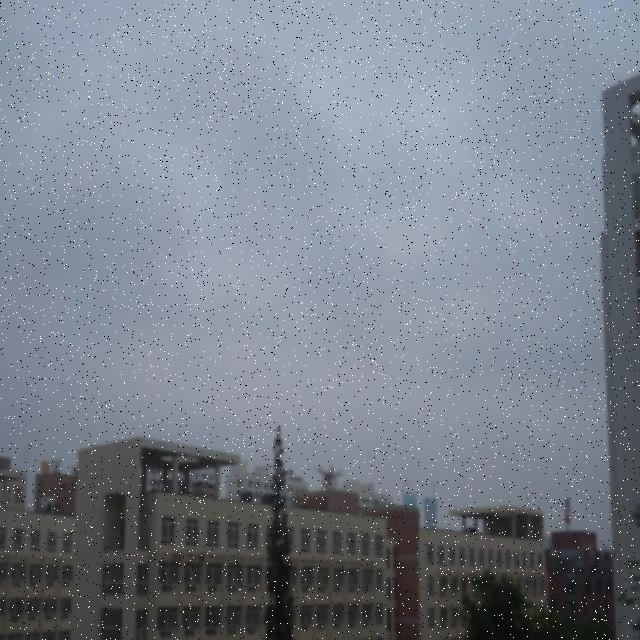UAV: (313, 466, 345, 489)
